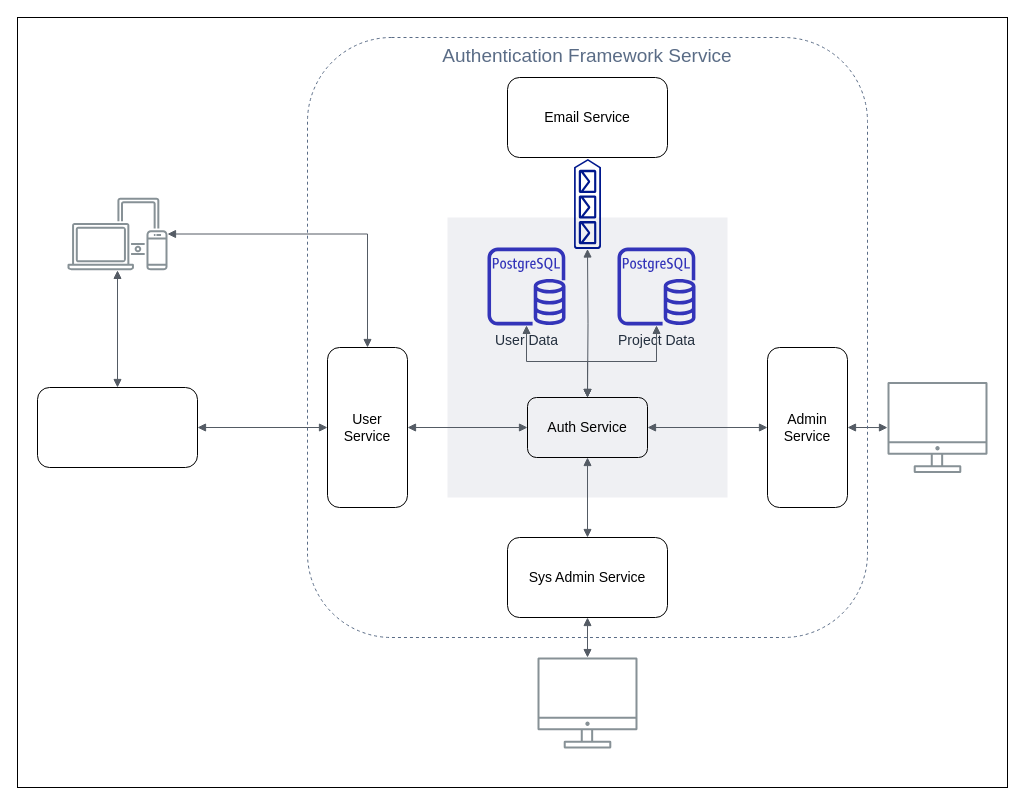
This 1025x805 diagram has some shape labels left out. Here are the shapes that lost their labels. From the top down, the centre of each, then its label:
At (x=117, y=233): "User Devices".
At (x=117, y=427): "Project Server".
At (x=937, y=427): "Admin Portal".
At (x=587, y=702): "Sys Admin Portal".
